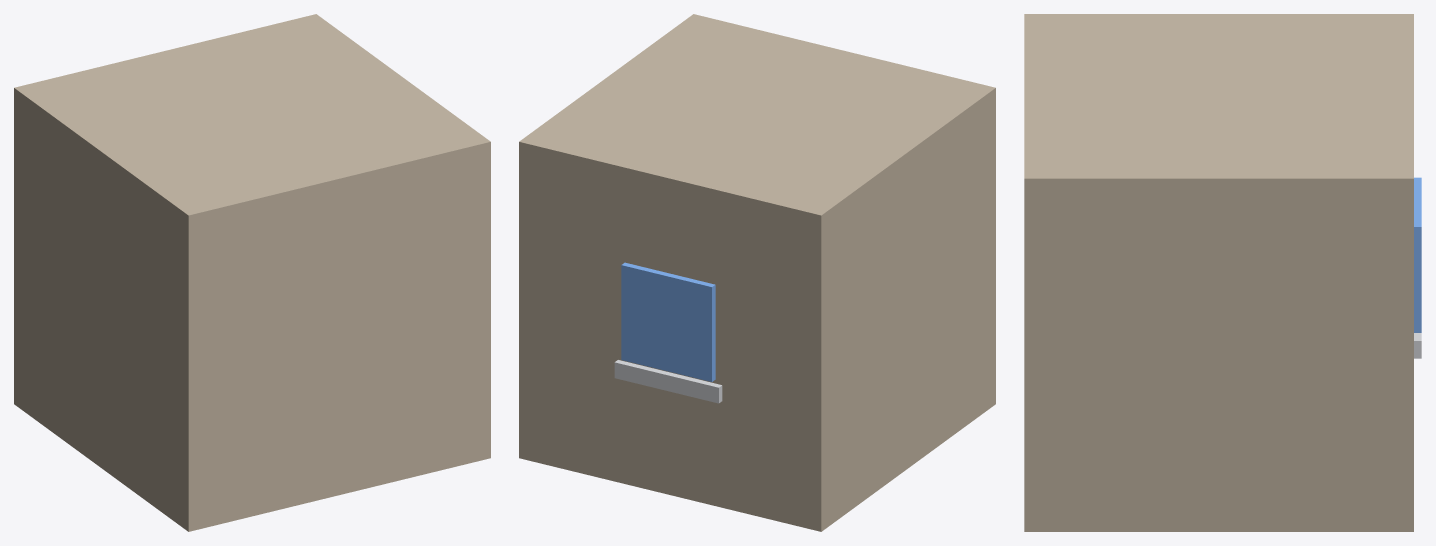
Rendered from mail_pkg_m.glb.
3 views of the same model, side by side, from view 1: azimuth 30°, elevation 25°; view 2: azimuth 150°, elevation 25°; view 3: azimuth 270°, elevation 25° (orthographic). The views are drawn at different scales.
Parts seen in each view (by area): view 1: mail_pkg_m; view 2: mail_pkg_m; view 3: mail_pkg_m.
Part boxes in pixels (x1=…): mail_pkg_m: x1=14, y1=14, x2=490, y2=531; mail_pkg_m: x1=519, y1=14, x2=995, y2=531; mail_pkg_m: x1=1024, y1=14, x2=1421, y2=531.
Bounding box in the file's own units: 0.4 × 0.4 × 0.408.
